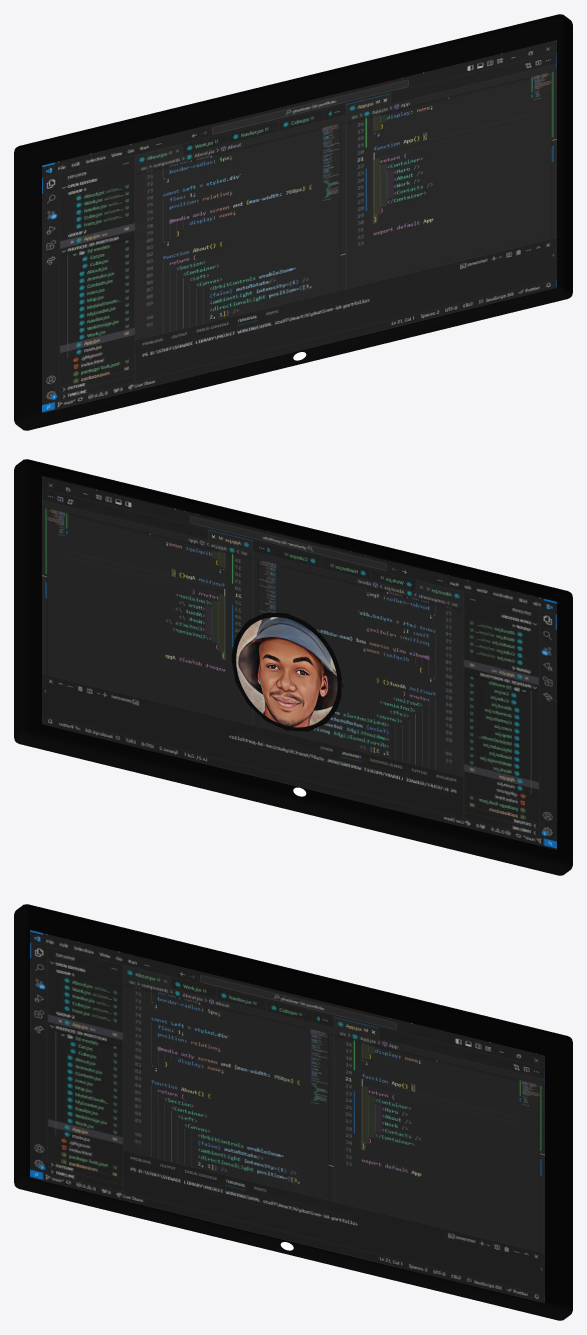
Rendered from Tablet-transformed.glb.
3 views of the same model, one above another, from view 1: azimuth 30°, elevation 25°; view 2: azimuth 150°, elevation 25°; view 3: azimuth 330°, elevation 25° (orthographic).
Parts seen in each view (by area): view 1: Cube; view 2: Cube; view 3: Cube.
Part boxes in pixels (left/top/right/bottom): Cube: left=14, top=14, right=572, bottom=430; Cube: left=14, top=459, right=572, bottom=875; Cube: left=14, top=904, right=572, bottom=1320.
Size of the model in its own units: 4.54 by 2.2 by 0.1818.
4 materials, 2 textured.
